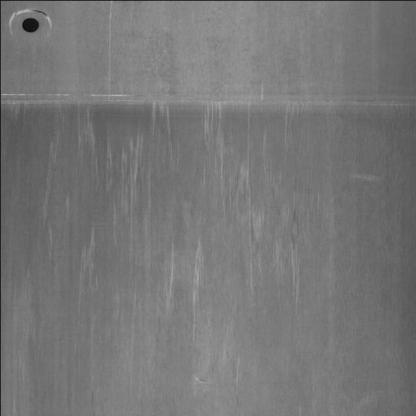punching_hole: (20, 13, 42, 38)
welding_line: (3, 82, 412, 122)
